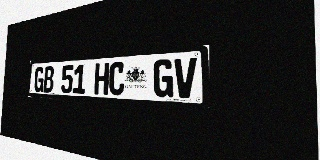1: (72, 64, 86, 94)
5: (61, 65, 73, 93)
B: (43, 66, 54, 93)
C: (109, 62, 125, 96)
G: (153, 59, 174, 97), (34, 67, 44, 92)
H: (94, 63, 109, 95)
V: (174, 57, 197, 98)
